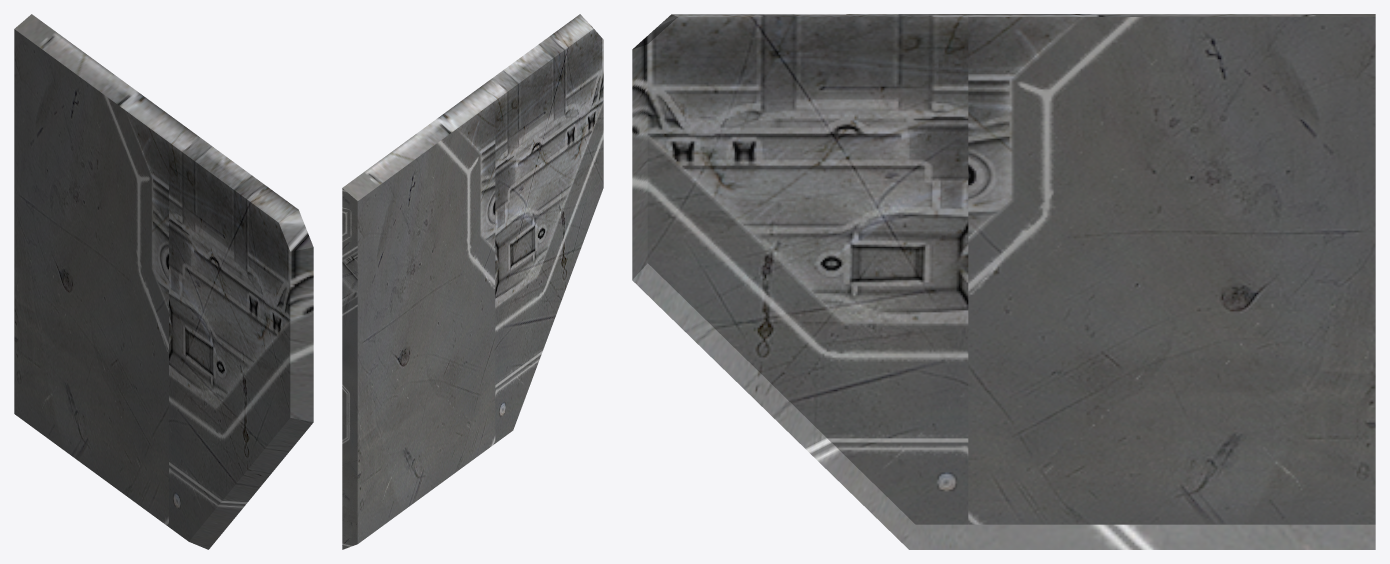
Rendered from SM_CornerTop2.fbx.
3 renders of one model, left to right at view 1: azimuth 30°, elevation 25°; view 2: azimuth 150°, elevation 25°; view 3: azimuth 270°, elevation 25°, orthographic. The views are drawn at different scales.
Visible parts, largest first — view 1: SM_CornerTop2_LOD0; view 2: SM_CornerTop2_LOD0; view 3: SM_CornerTop2_LOD0.
Part boxes in pixels (x1,y1,x2,y2): SM_CornerTop2_LOD0: [14, 14, 313, 549]; SM_CornerTop2_LOD0: [342, 14, 603, 549]; SM_CornerTop2_LOD0: [632, 14, 1375, 549].
Size of the model in its own units: 5 by 140 by 111.
Materials: 1 (1 with a texture image).
